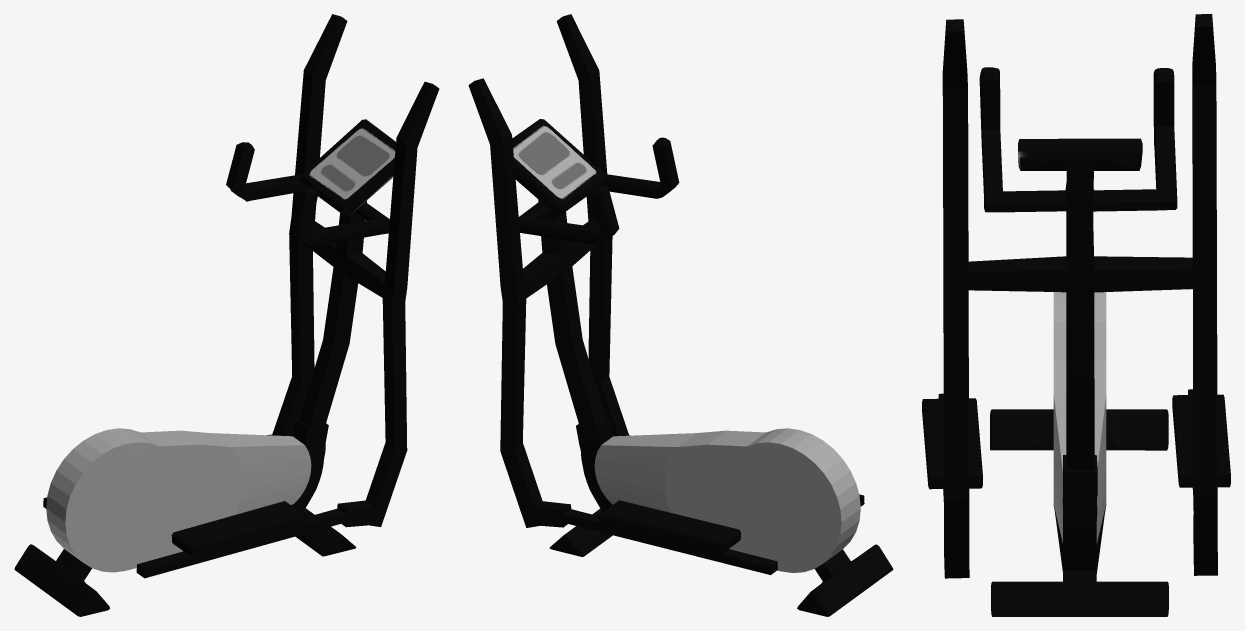
File: cross_trainer.fbx
3 views of the same model, side by side, from view 1: azimuth 30°, elevation 25°; view 2: azimuth 150°, elevation 25°; view 3: azimuth 270°, elevation 25° (orthographic). The views are drawn at different scales.
Parts seen in each view (by area): view 1: Cylinder; view 2: Cylinder; view 3: Cylinder.
Part boxes in pixels (x1=…): Cylinder: x1=14, y1=14, x2=439, y2=616; Cylinder: x1=468, y1=14, x2=893, y2=616; Cylinder: x1=922, y1=14, x2=1230, y2=616.
Bounding box in the file's own units: 572 × 730 × 318.
